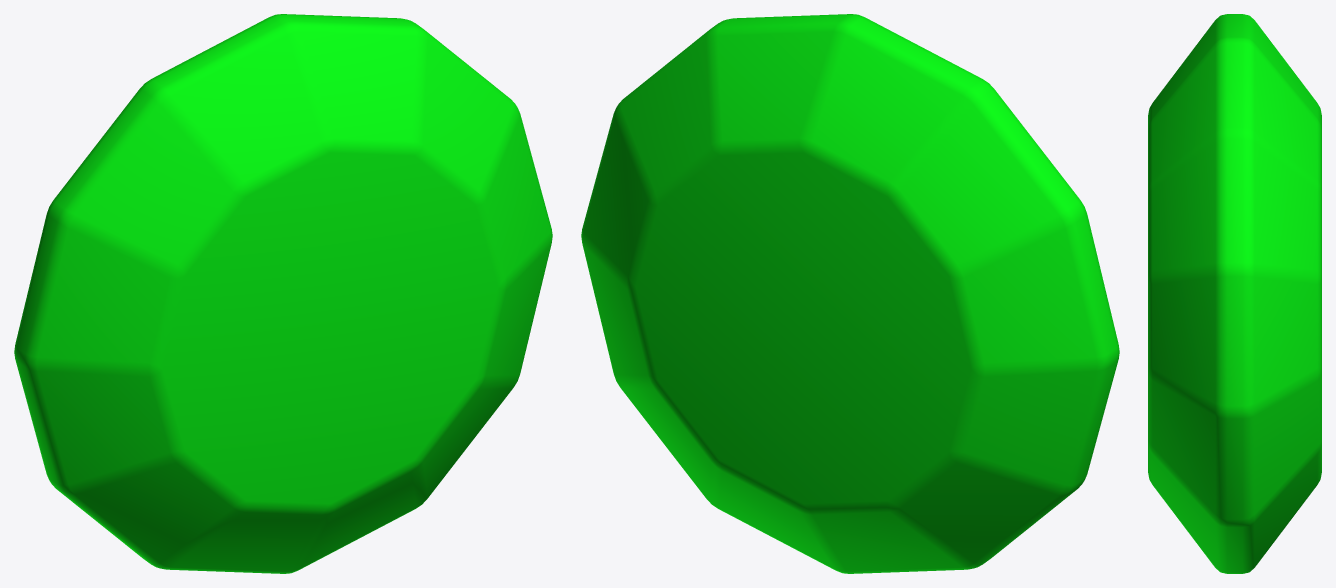
File: Treasure_Gem3.fbx
3 views of the same model, side by side, from view 1: azimuth 30°, elevation 25°; view 2: azimuth 150°, elevation 25°; view 3: azimuth 270°, elevation 25° (orthographic). The views are drawn at different scales.
Visible parts, largest first — view 1: Gem3; view 2: Gem3; view 3: Gem3.
Part boxes in pixels (x1,y1,x2,y2): Gem3: (14, 14, 552, 573); Gem3: (581, 14, 1119, 573); Gem3: (1148, 14, 1321, 573).
Bounding box in the file's own units: 120 × 120 × 36.98.
